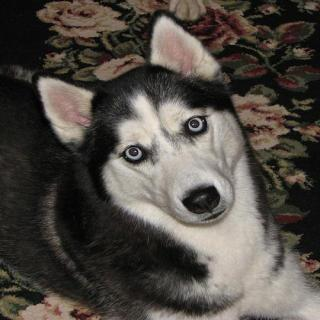dog: (32, 18, 252, 238)
nose: (180, 182, 220, 216)
